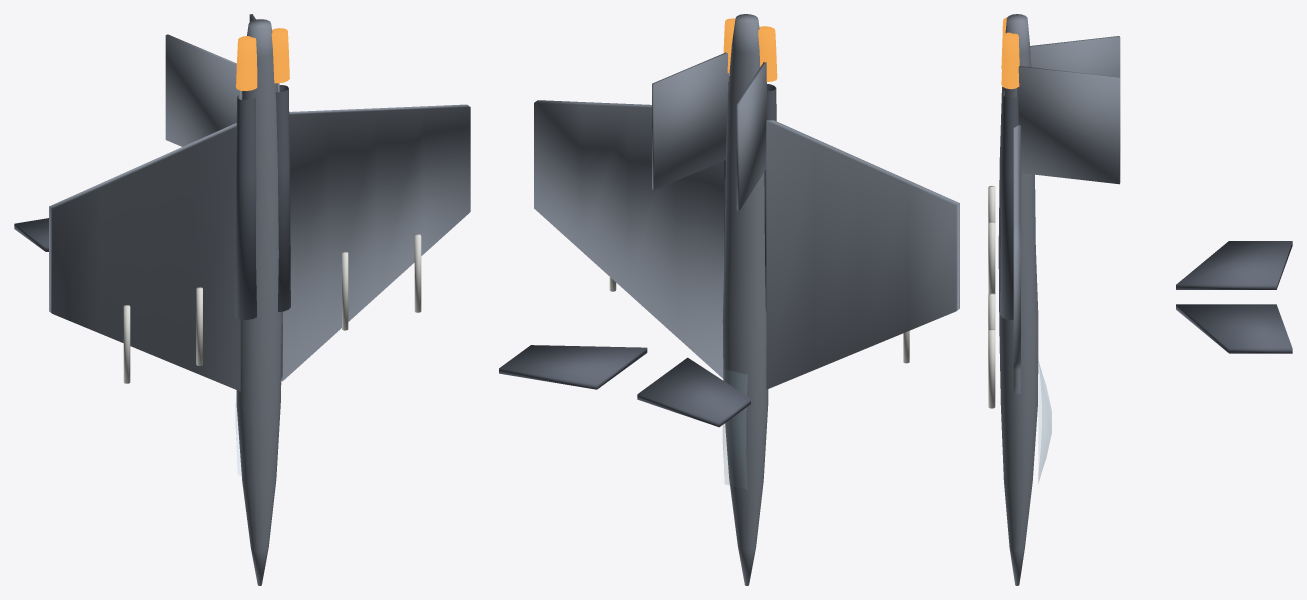
The model's file is fighter.glb.
3 views of the same model, side by side, from view 1: azimuth 30°, elevation 25°; view 2: azimuth 150°, elevation 25°; view 3: azimuth 270°, elevation 25° (orthographic).
Visible parts, largest first — view 1: Wings, Fuselage, Intakes, VTail, Missiles, Nozzles, HStab; view 2: Wings, Fuselage, VTail, HStab, Canopy, Nozzles, Intakes; view 3: VTail, Fuselage, HStab, Intakes, Wings, Missiles, Nozzles, Canopy.
Part boxes in pixels (<box>): Wings: <box>49,104,470,391</box>; Fuselage: <box>236,19,282,585</box>; Intakes: <box>235,85,290,319</box>; VTail: <box>165,14,279,146</box>; Missiles: <box>123,234,421,383</box>; Nozzles: <box>236,28,289,90</box>; HStab: <box>14,218,48,251</box>; Wings: <box>534,100,959,389</box>; Fuselage: <box>722,14,768,585</box>; VTail: <box>652,52,766,210</box>; HStab: <box>499,345,750,427</box>; Canopy: <box>723,369,747,489</box>; Nozzles: <box>723,18,777,81</box>; Intakes: <box>724,76,776,312</box>; VTail: <box>1017,36,1120,184</box>; Fuselage: <box>998,14,1038,585</box>; HStab: <box>1176,241,1292,353</box>; Intakes: <box>1000,91,1018,319</box>; Wings: <box>1013,125,1020,393</box>; Missiles: <box>988,186,995,408</box>; Nozzles: <box>1001,17,1019,89</box>; Canopy: <box>1038,361,1051,484</box>.
Size of the model in its own units: 9.2 by 11.8 by 5.74.
